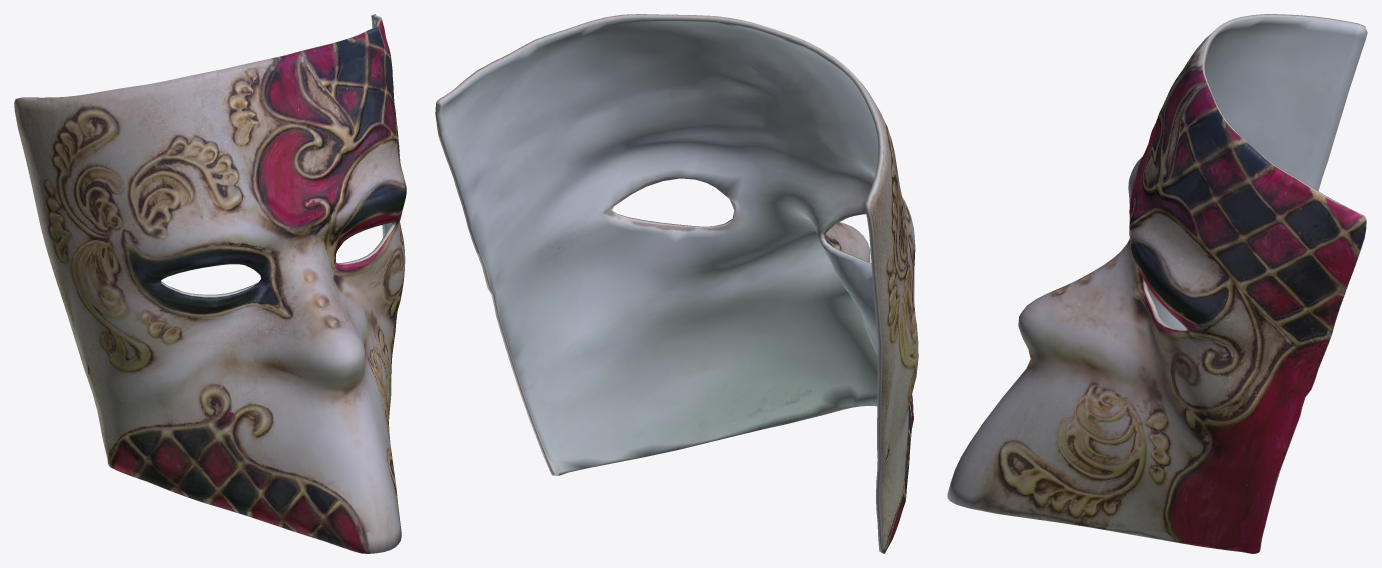
The model's file is sv_venicemask.glb.
3 views of the same model, side by side, from view 1: azimuth 30°, elevation 25°; view 2: azimuth 150°, elevation 25°; view 3: azimuth 270°, elevation 25° (orthographic). The views are drawn at different scales.
Visible parts, largest first — view 1: sv_venicemask; view 2: sv_venicemask; view 3: sv_venicemask.
Part boxes in pixels (x1,y1,x2,y2): sv_venicemask: (14,14,406,553); sv_venicemask: (435,14,918,553); sv_venicemask: (947,14,1367,553).
Size of the model in its own units: 0.5065 by 0.5428 by 0.475.
Materials: 1 (1 with a texture image).
